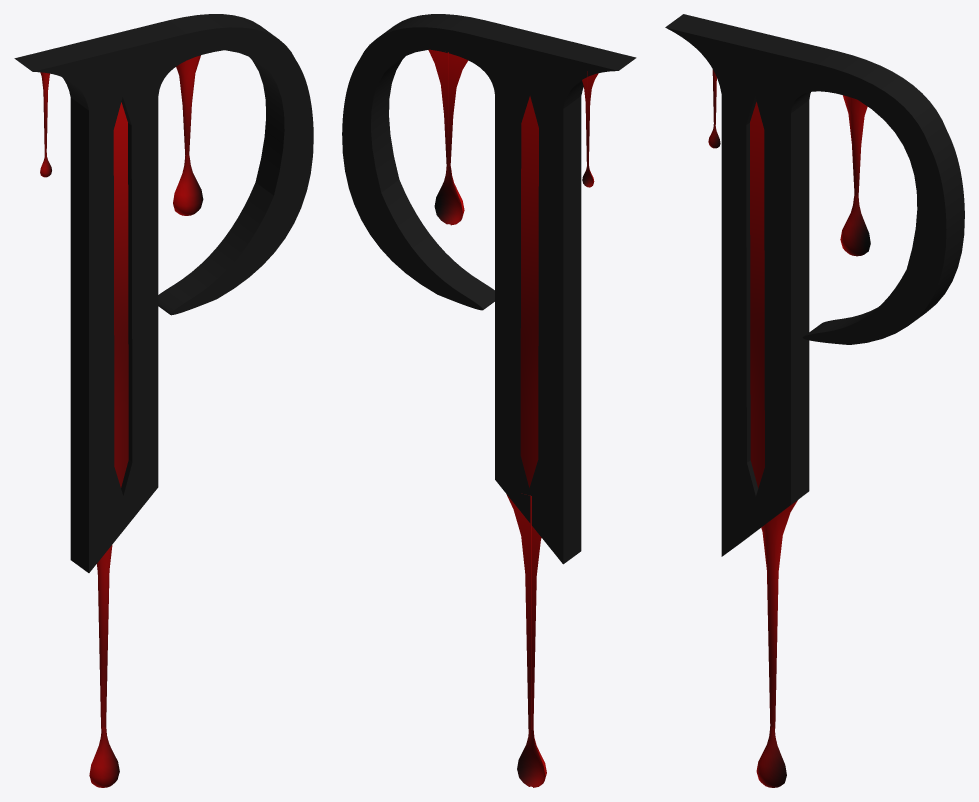
3 renders of one model, left to right at view 1: azimuth 30°, elevation 25°; view 2: azimuth 150°, elevation 25°; view 3: azimuth 330°, elevation 25°, orthographic.
Parts seen in each view (by area): view 1: P, P_Element, Blood_051, Blood_045, Blood_046; view 2: P, P_Element, Blood_051, Blood_045, Blood_046; view 3: P, P_Element, Blood_051, Blood_045.
Part boxes in pixels (x1=…): P: x1=14, y1=14, x2=313, y2=572; P_Element: x1=113, y1=102, x2=128, y2=487; Blood_051: x1=89, y1=545, x2=119, y2=787; Blood_045: x1=173, y1=55, x2=203, y2=215; Blood_046: x1=40, y1=72, x2=51, y2=177; P: x1=342, y1=14, x2=636, y2=564; P_Element: x1=520, y1=96, x2=538, y2=487; Blood_051: x1=506, y1=494, x2=546, y2=787; Blood_045: x1=428, y1=49, x2=468, y2=225; Blood_046: x1=582, y1=71, x2=598, y2=187; P: x1=665, y1=14, x2=964, y2=556; P_Element: x1=750, y1=102, x2=764, y2=488; Blood_051: x1=756, y1=500, x2=797, y2=787; Blood_045: x1=840, y1=95, x2=870, y2=256.
Bounding box in the file's own units: 44.07 × 112 × 5.05.
2 materials, 1 textured.
